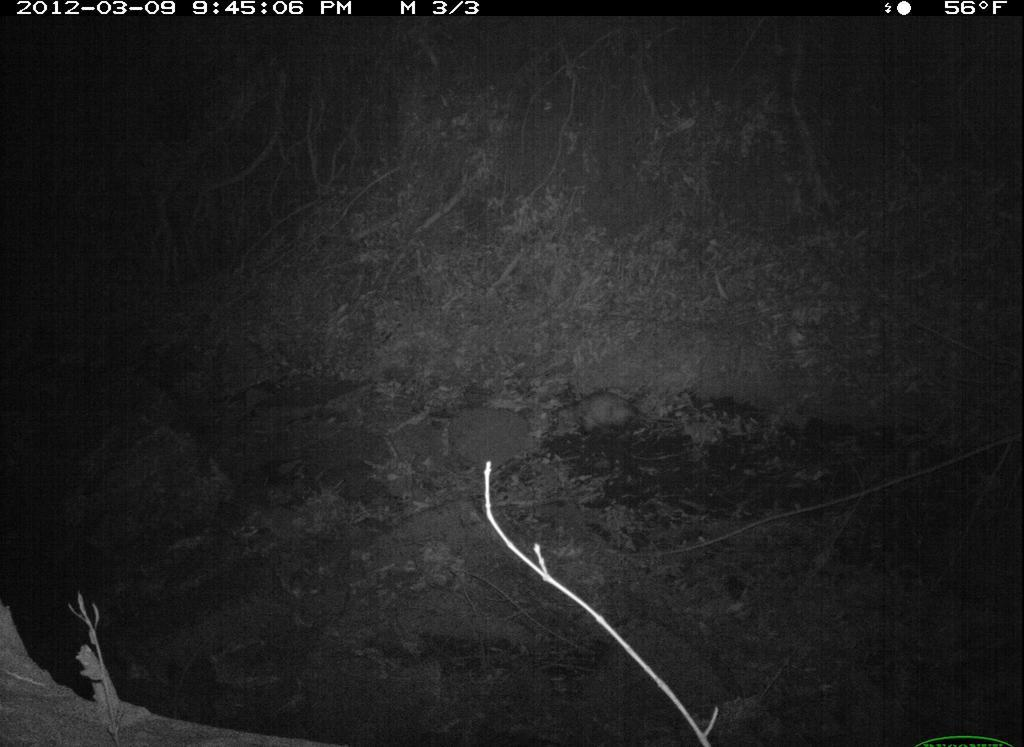opossum: (546, 386, 690, 445)
